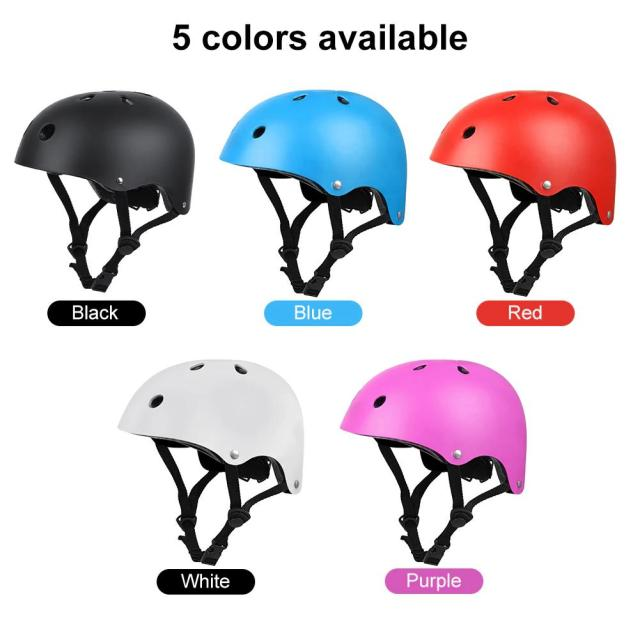Helmet: (338, 355, 529, 499), (114, 357, 305, 498), (218, 86, 408, 226), (428, 90, 618, 228), (15, 90, 196, 218)
